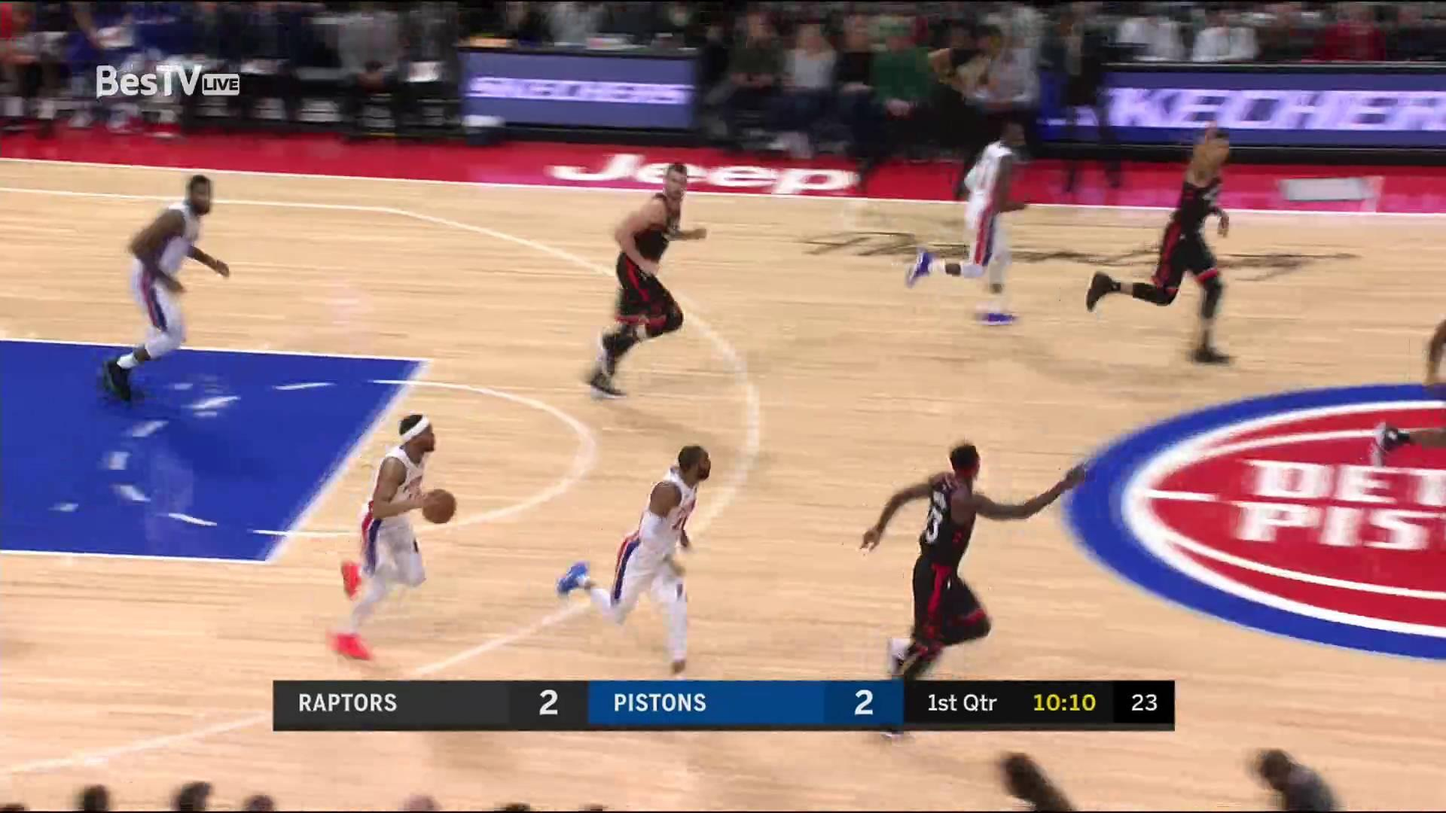basketball: (422, 487, 460, 524)
